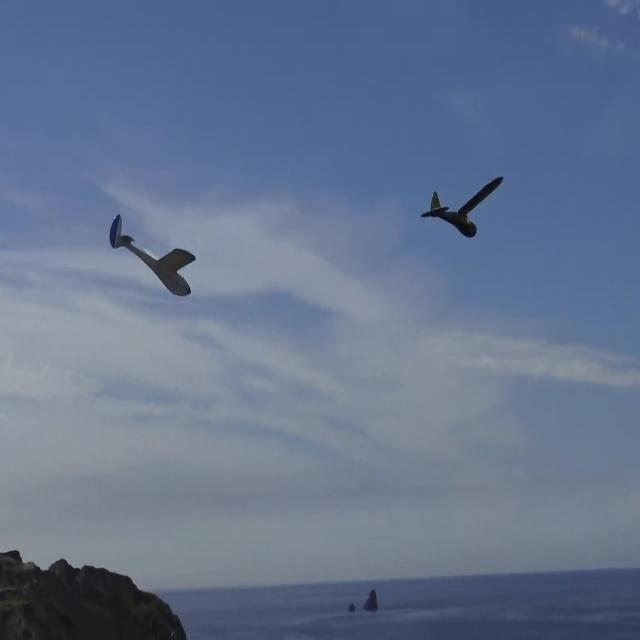iha: (140, 245, 166, 266), (451, 203, 472, 208)
